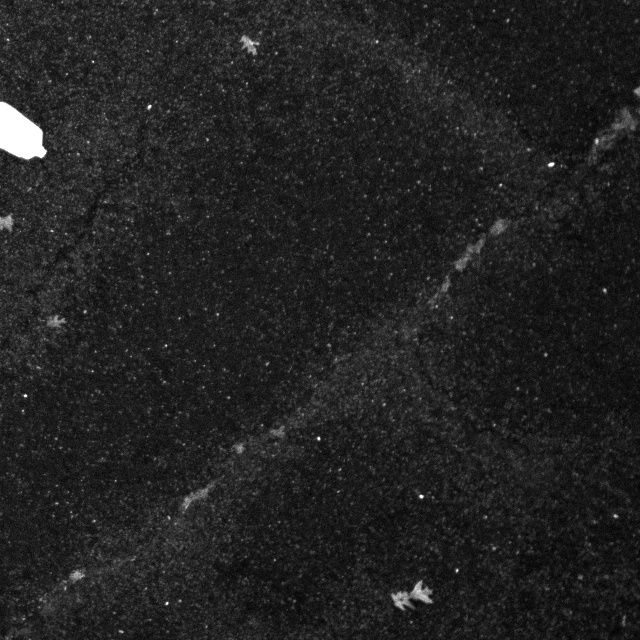can: (0, 100, 55, 167)
